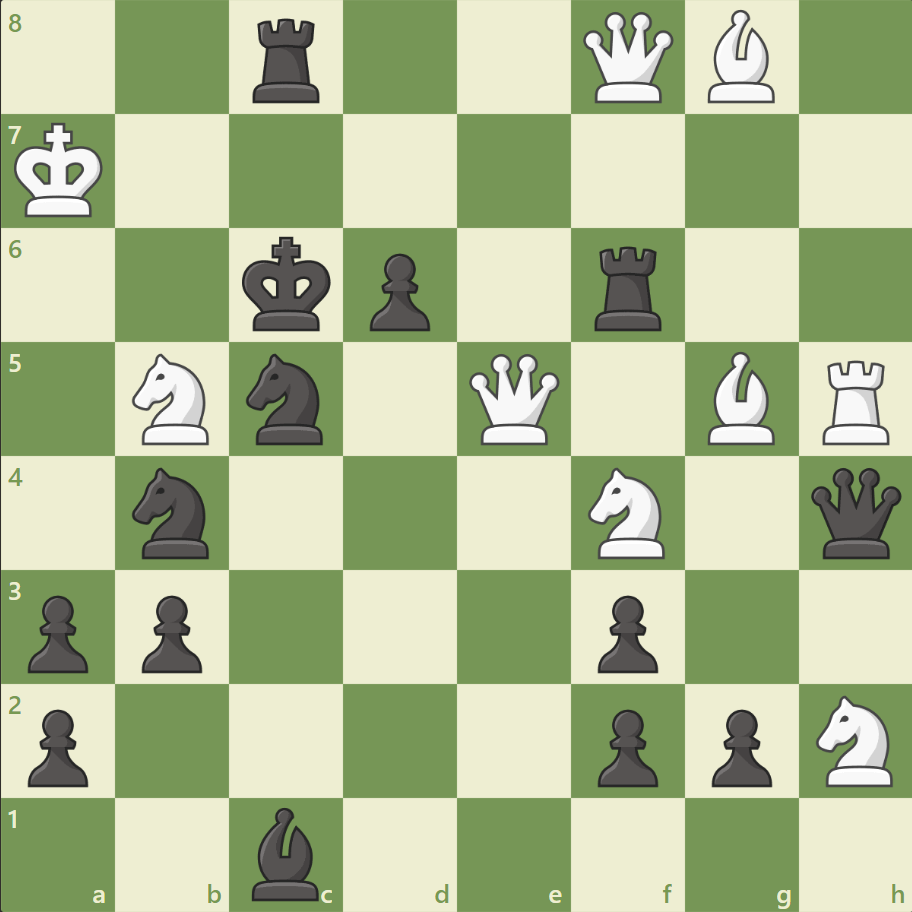B: (698, 6, 782, 109), (698, 347, 782, 449)
K: (11, 117, 111, 225)
N: (124, 348, 222, 450), (579, 461, 676, 564), (806, 688, 903, 791)
Q: (464, 349, 563, 449), (578, 9, 677, 108)
R: (814, 352, 897, 449)
b: (244, 801, 328, 904)
k: (238, 231, 338, 339)
n: (124, 461, 222, 564), (238, 348, 335, 450)
p: (20, 586, 95, 677), (133, 586, 208, 677), (20, 700, 95, 791), (701, 700, 776, 791), (361, 246, 435, 337), (588, 586, 662, 677), (588, 700, 662, 791)
q: (805, 463, 904, 562)
r: (246, 12, 329, 109), (587, 239, 670, 336)
